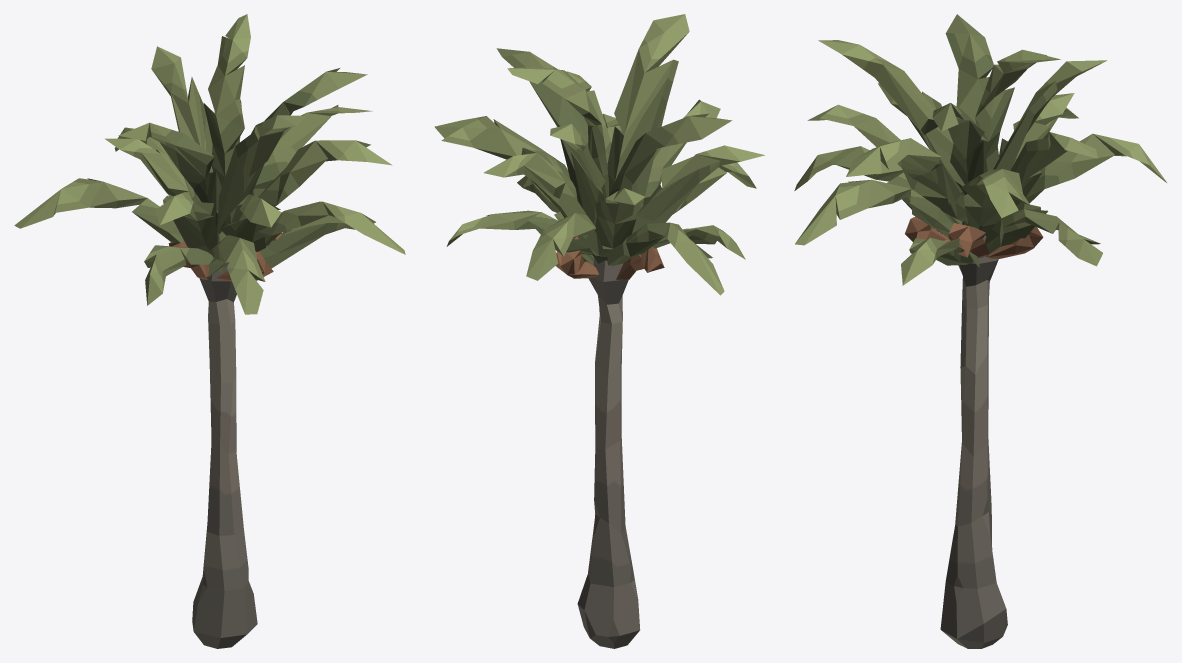
Rendered from SM_Env_Tree_Big_01.glb.
3 renders of one model, left to right at view 1: azimuth 30°, elevation 25°; view 2: azimuth 150°, elevation 25°; view 3: azimuth 270°, elevation 25°, orthographic. The views are drawn at different scales.
Visible parts, largest first — view 1: SM_Env_Tree_Big_01; view 2: SM_Env_Tree_Big_01; view 3: SM_Env_Tree_Big_01.
Boxes of the visible parts, <box> form: SM_Env_Tree_Big_01: <box>14,14,405,648</box>; SM_Env_Tree_Big_01: <box>434,14,764,648</box>; SM_Env_Tree_Big_01: <box>794,14,1166,648</box>.
Bounding box in the file's own units: 5.28 × 9.21 × 5.01.
1 material, 1 textured.
